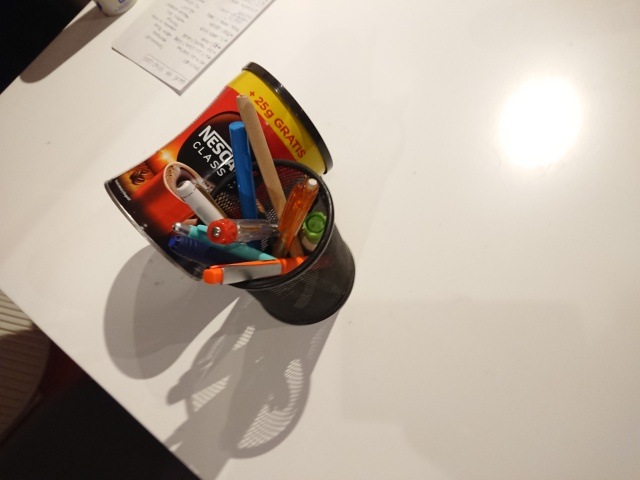Nescafe Classic 225g: (101, 59, 336, 286)
